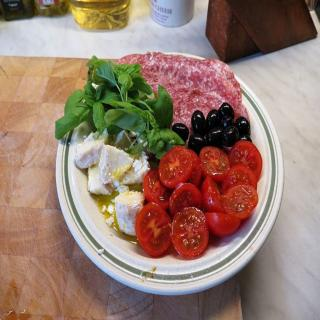Cheese: (74, 126, 151, 238)
Tomato: (144, 139, 260, 258), (134, 202, 174, 254)
